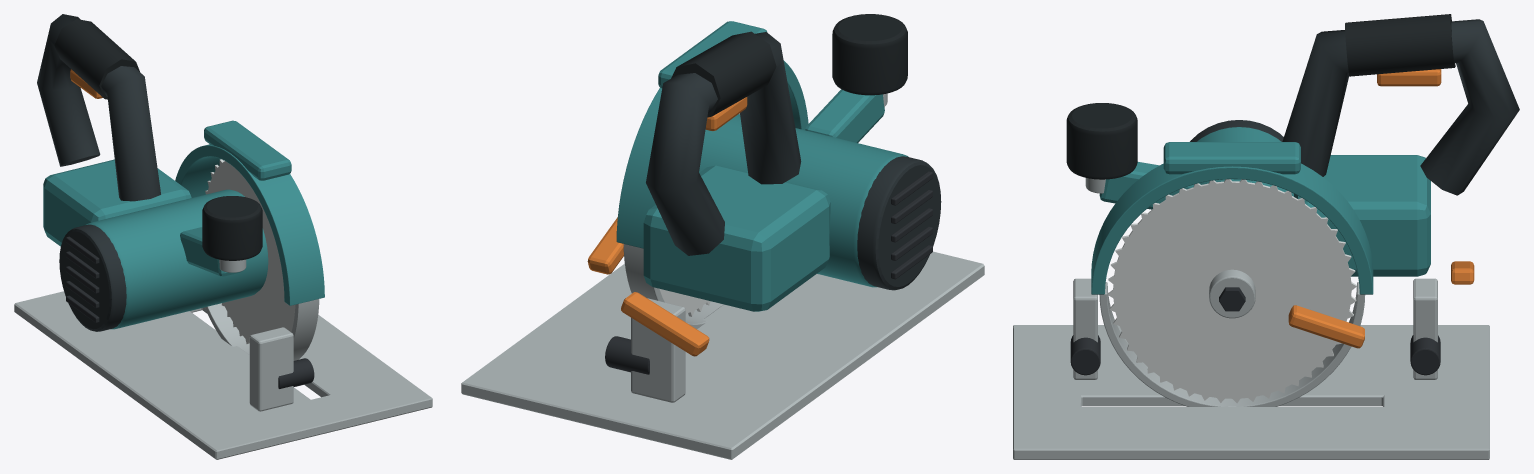
File: city-handheld-circular-saw.glb
3 renders of one model, left to right at view 1: azimuth 30°, elevation 25°; view 2: azimuth 150°, elevation 25°; view 3: azimuth 270°, elevation 25°, orthographic. The views are drawn at different scales.
Parts seen in each view (by area): view 1: Assembly | Satin tool steel, Assembly | Muted teal molded tool body, Assembly | Graphite tool overmold, Assembly | Soft black grip rubber, Assembly | Bright cutting metal appearance, Assembly | Dark recess and fasteners; view 2: Assembly | Satin tool steel, Assembly | Muted teal molded tool body, Assembly | Graphite tool overmold, Assembly | Soft black grip rubber, Assembly | Unbranded orange controls, Assembly | Dark recess and fasteners, Assembly | Bright cutting metal appearance; view 3: Assembly | Satin tool steel, Assembly | Bright cutting metal appearance, Assembly | Muted teal molded tool body, Assembly | Graphite tool overmold, Assembly | Soft black grip rubber, Assembly | Unbranded orange controls, Assembly | Dark recess and fasteners.
Part boxes in pixels (x1,y1,x2,y2): Assembly | Satin tool steel: [14, 259, 432, 459]; Assembly | Muted teal molded tool body: [43, 120, 324, 329]; Assembly | Graphite tool overmold: [37, 14, 160, 331]; Assembly | Soft black grip rubber: [54, 19, 262, 260]; Assembly | Bright cutting metal appearance: [205, 159, 295, 343]; Assembly | Dark recess and fasteners: [66, 236, 314, 388]; Assembly | Satin tool steel: [461, 93, 984, 459]; Assembly | Muted teal molded tool body: [616, 21, 908, 311]; Assembly | Graphite tool overmold: [646, 32, 941, 290]; Assembly | Soft black grip rubber: [671, 14, 907, 117]; Assembly | Unbranded orange controls: [587, 97, 747, 356]; Assembly | Dark recess and fasteners: [605, 171, 932, 374]; Assembly | Bright cutting metal appearance: [659, 113, 739, 316]; Assembly | Satin tool steel: [1013, 178, 1489, 459]; Assembly | Bright cutting metal appearance: [1108, 179, 1356, 403]; Assembly | Muted teal molded tool body: [1091, 127, 1430, 294]; Assembly | Graphite tool overmold: [1190, 19, 1519, 195]; Assembly | Soft black grip rubber: [1066, 14, 1455, 179]; Assembly | Unbranded orange controls: [1288, 69, 1474, 348]; Assembly | Dark recess and fasteners: [1070, 287, 1440, 375].
Size of the model in its own units: 0.255 by 0.2794 by 0.3698.
